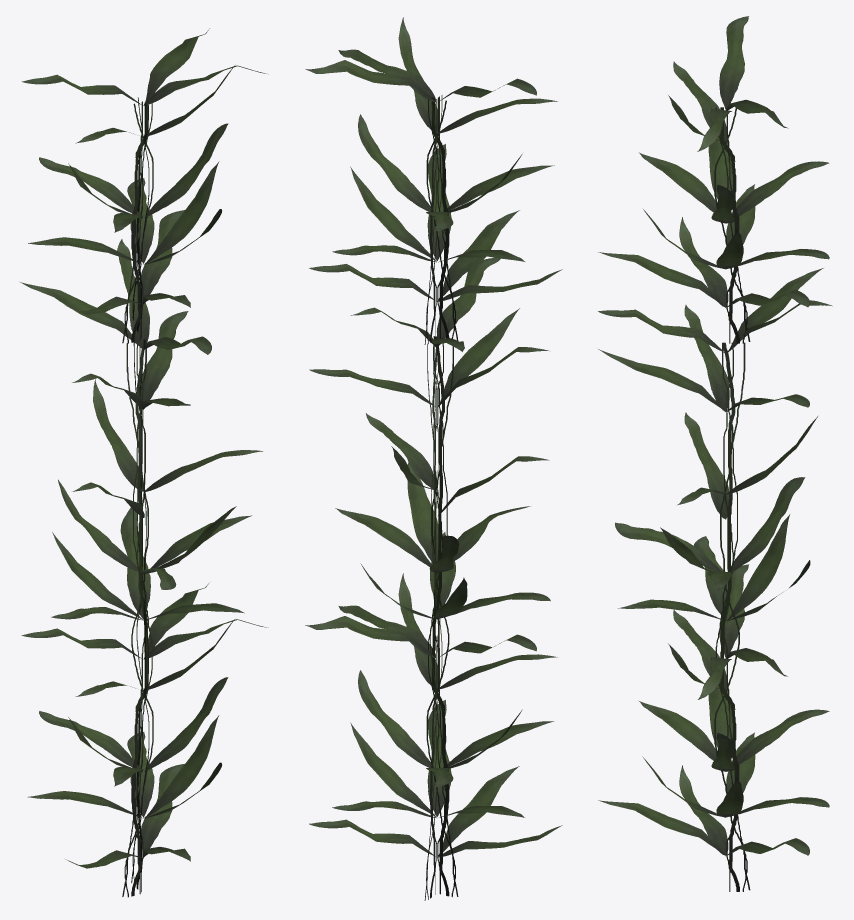
Rendered from Kelp03.dae.
The picture shows the model from 3 angles, left to right: view 1: azimuth 30°, elevation 25°; view 2: azimuth 150°, elevation 25°; view 3: azimuth 270°, elevation 25°; orthographic projection.
Visible parts, largest first — view 1: Kelp03; view 2: Kelp03; view 3: Kelp03.
Boxes of the visible parts, x1,y1,x2,y2 form: Kelp03: (20, 28, 268, 897); Kelp03: (305, 17, 562, 900); Kelp03: (598, 16, 832, 891).
Bounding box in the file's own units: 43.67 × 40.43 × 151.
Materials: 1 (1 with a texture image).
